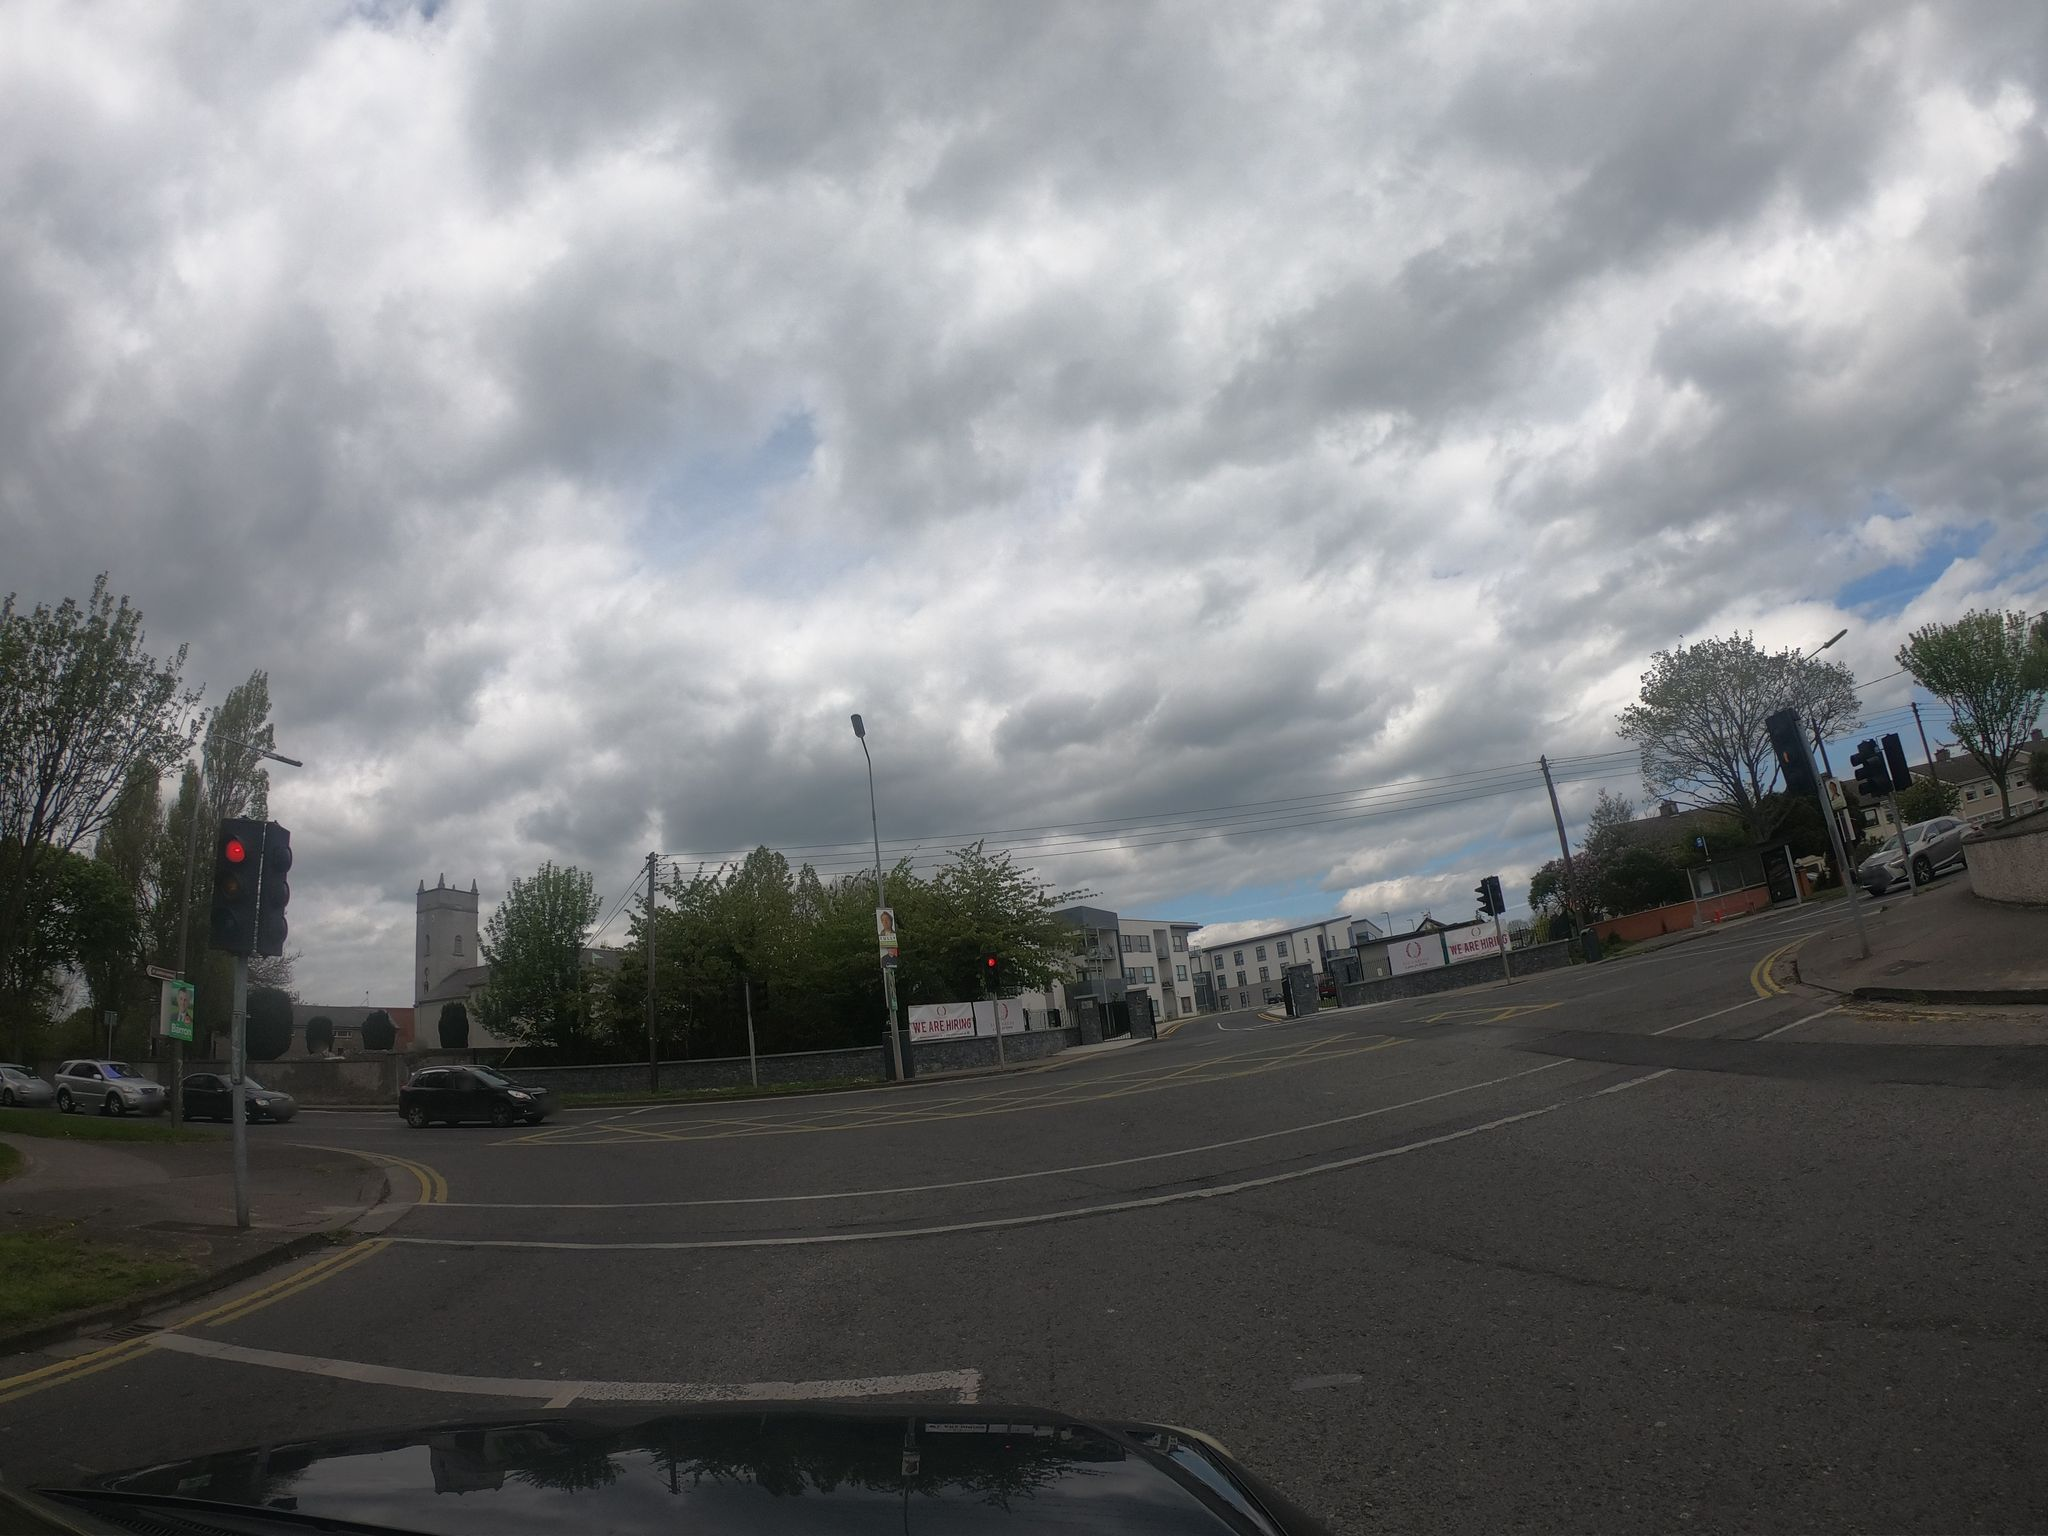vinyl banner: (893, 991, 979, 1046), (1447, 910, 1514, 965)
